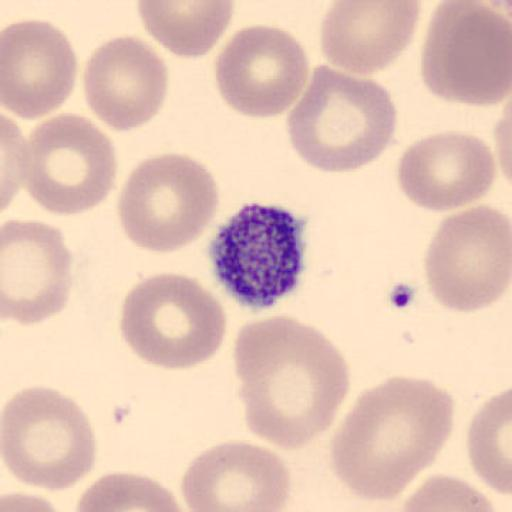Platelet: (205, 198, 310, 311)
RBC: (330, 374, 454, 504), (232, 314, 350, 450), (285, 62, 399, 175), (118, 272, 228, 372), (116, 152, 220, 256), (19, 110, 119, 216), (2, 384, 98, 492), (423, 203, 511, 315), (420, 1, 512, 108), (213, 22, 310, 120), (81, 34, 169, 134), (397, 128, 498, 214), (180, 437, 292, 512), (2, 17, 79, 121), (2, 218, 75, 326), (319, 0, 422, 76), (135, 0, 236, 61), (71, 469, 193, 512), (466, 385, 512, 499), (396, 471, 507, 512), (0, 110, 31, 216), (2, 488, 69, 512)
